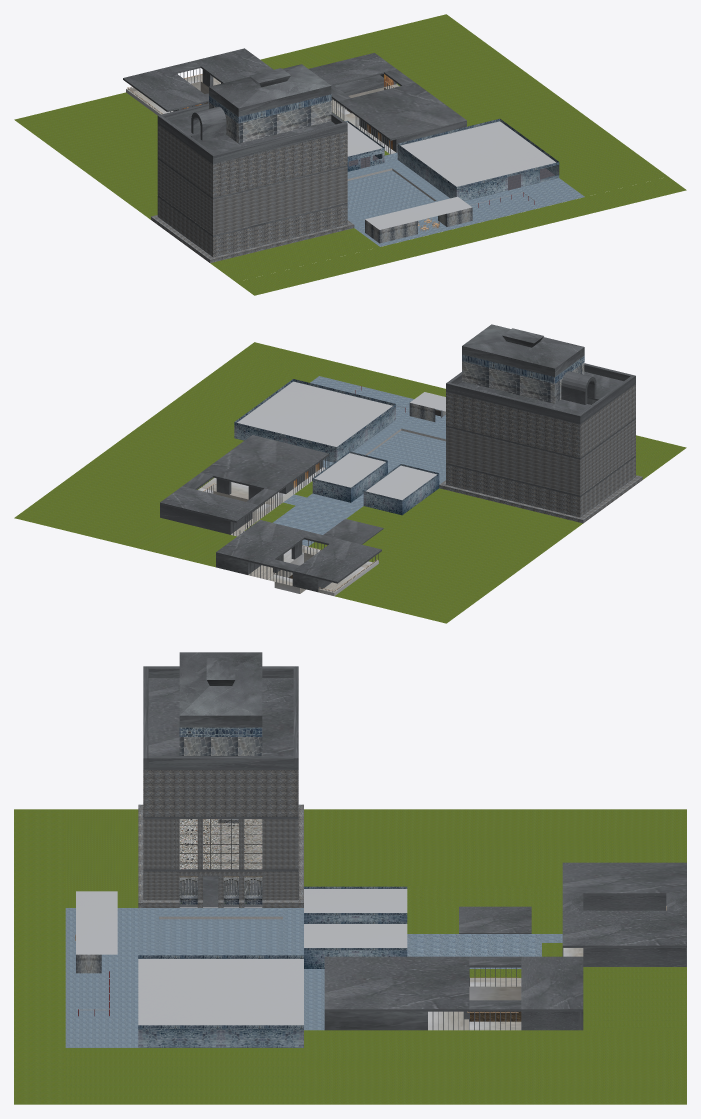
The model's file is Museo_Anahuacalli.obj.
The picture shows the model from 3 angles, top to bottom: view 1: azimuth 30°, elevation 25°; view 2: azimuth 150°, elevation 25°; view 3: azimuth 270°, elevation 25°; orthographic projection. The views are drawn at different scales.
Parts seen in each view (by area): view 1: Museo_Anahuacalli; view 2: Museo_Anahuacalli; view 3: Museo_Anahuacalli.
Part boxes in pixels (x1,y1,x2,y2): Museo_Anahuacalli: (14,14,686,295); Museo_Anahuacalli: (14,324,686,623); Museo_Anahuacalli: (14,652,686,1104).
Size of the model in its own units: 135 by 46.97 by 130.
Materials: 608 (608 with a texture image).
